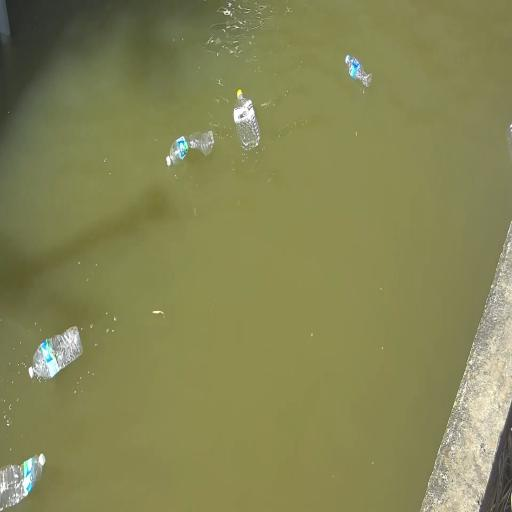plastic: (29, 326, 83, 379), (0, 454, 45, 511), (167, 131, 214, 166), (234, 90, 260, 149), (346, 55, 371, 87), (508, 124, 511, 157)
